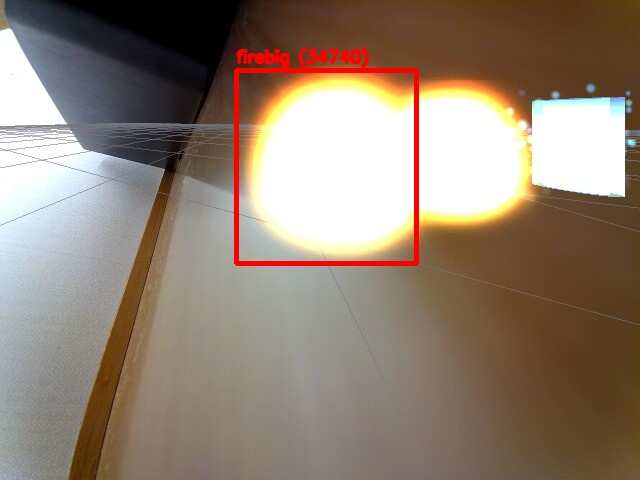firebig: (236, 70, 416, 263)
